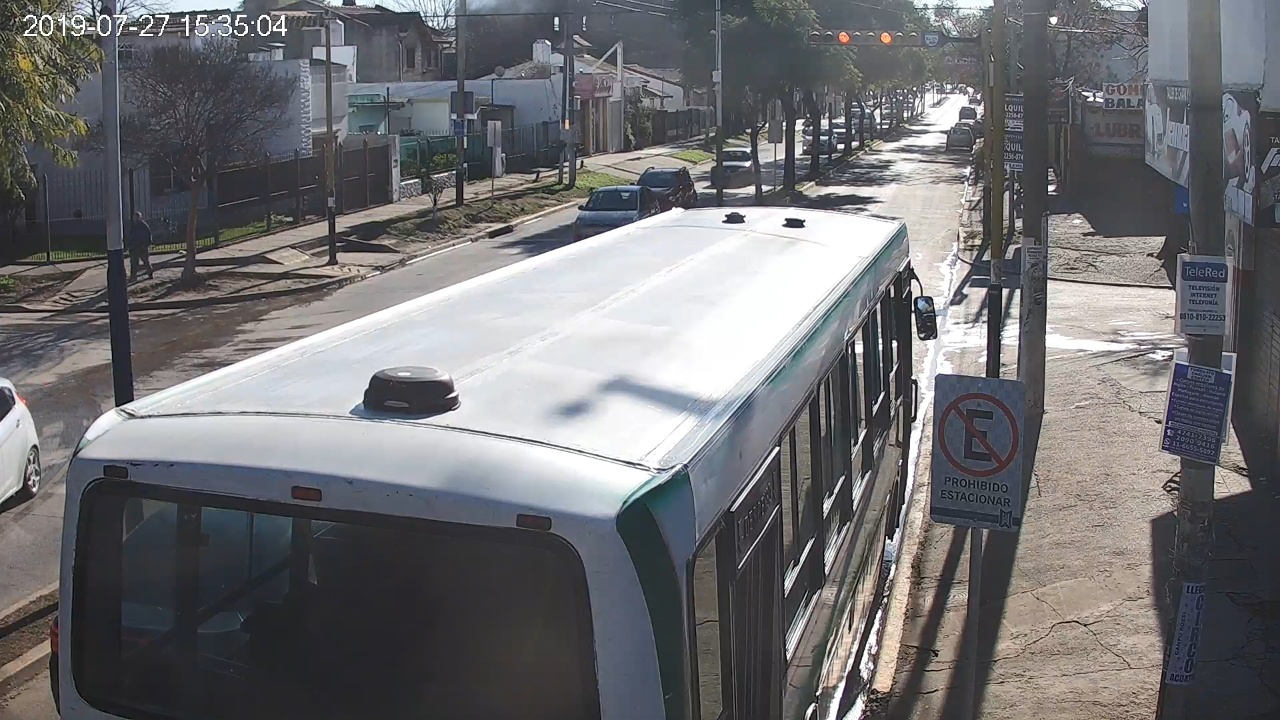bus: (50, 207, 937, 720)
traffic light: (837, 28, 920, 46)
